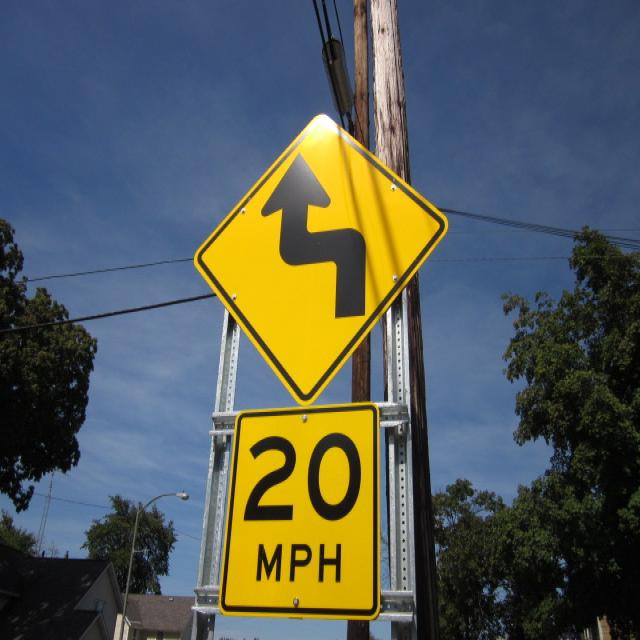warning: (190, 103, 449, 407)
